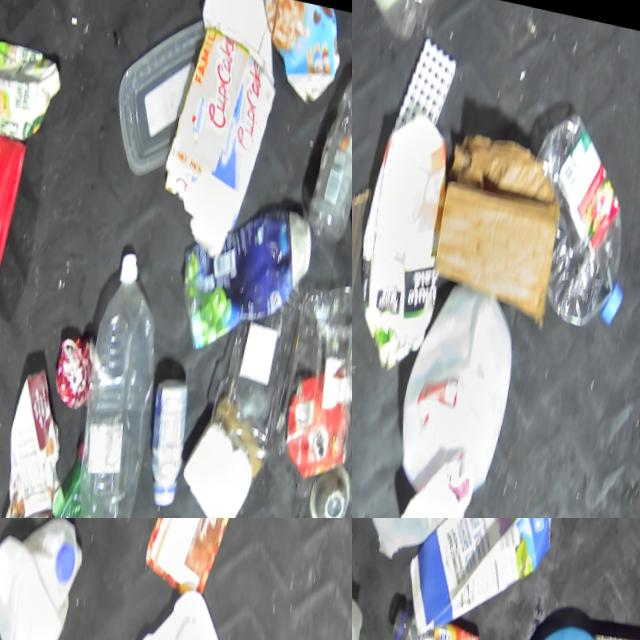milk_jug: (380, 258, 525, 490), (0, 518, 90, 640), (352, 518, 492, 578)
non_white_jug: (161, 182, 311, 369)
plastic_bottle: (53, 244, 171, 518), (526, 100, 640, 329), (300, 43, 352, 245), (352, 0, 448, 43)
